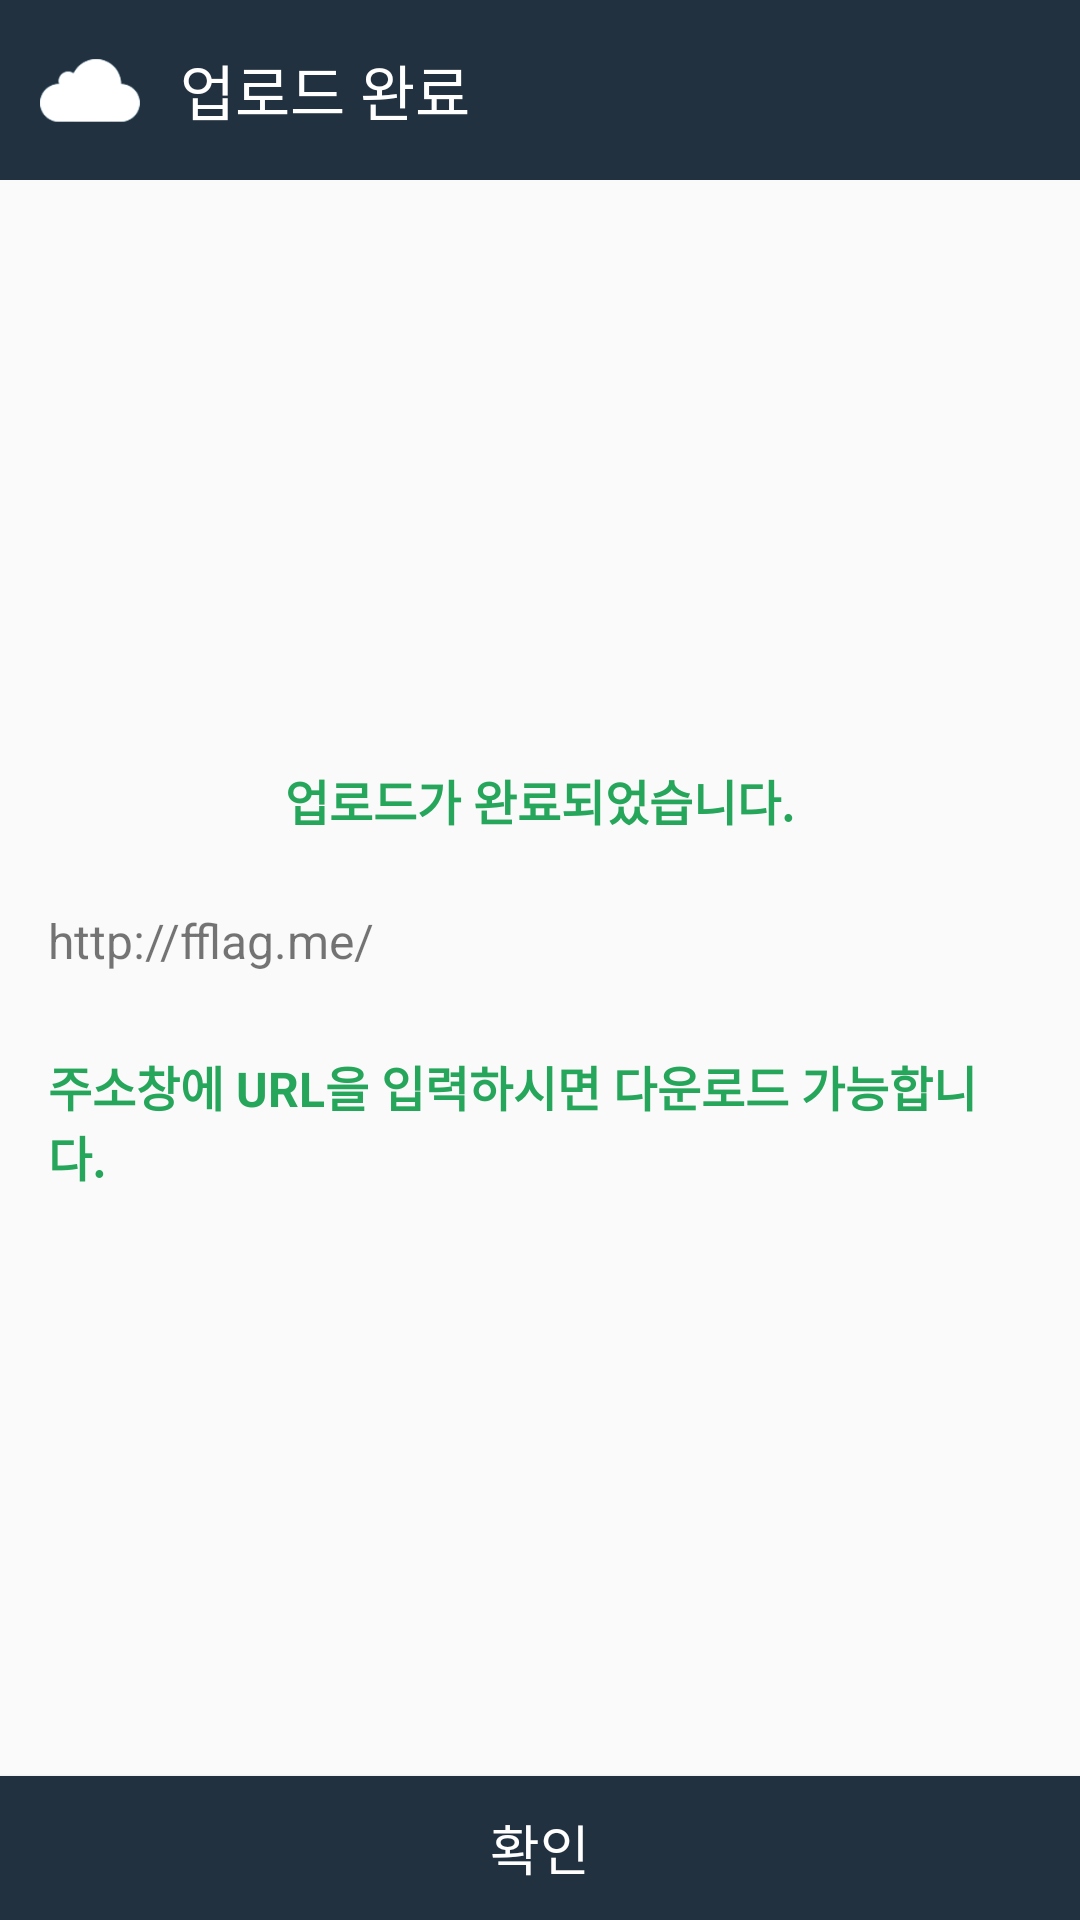

Screen size 1080px x 1920px. Icon name, then its center in pixels as (x,y):
cloud: (90,90)
